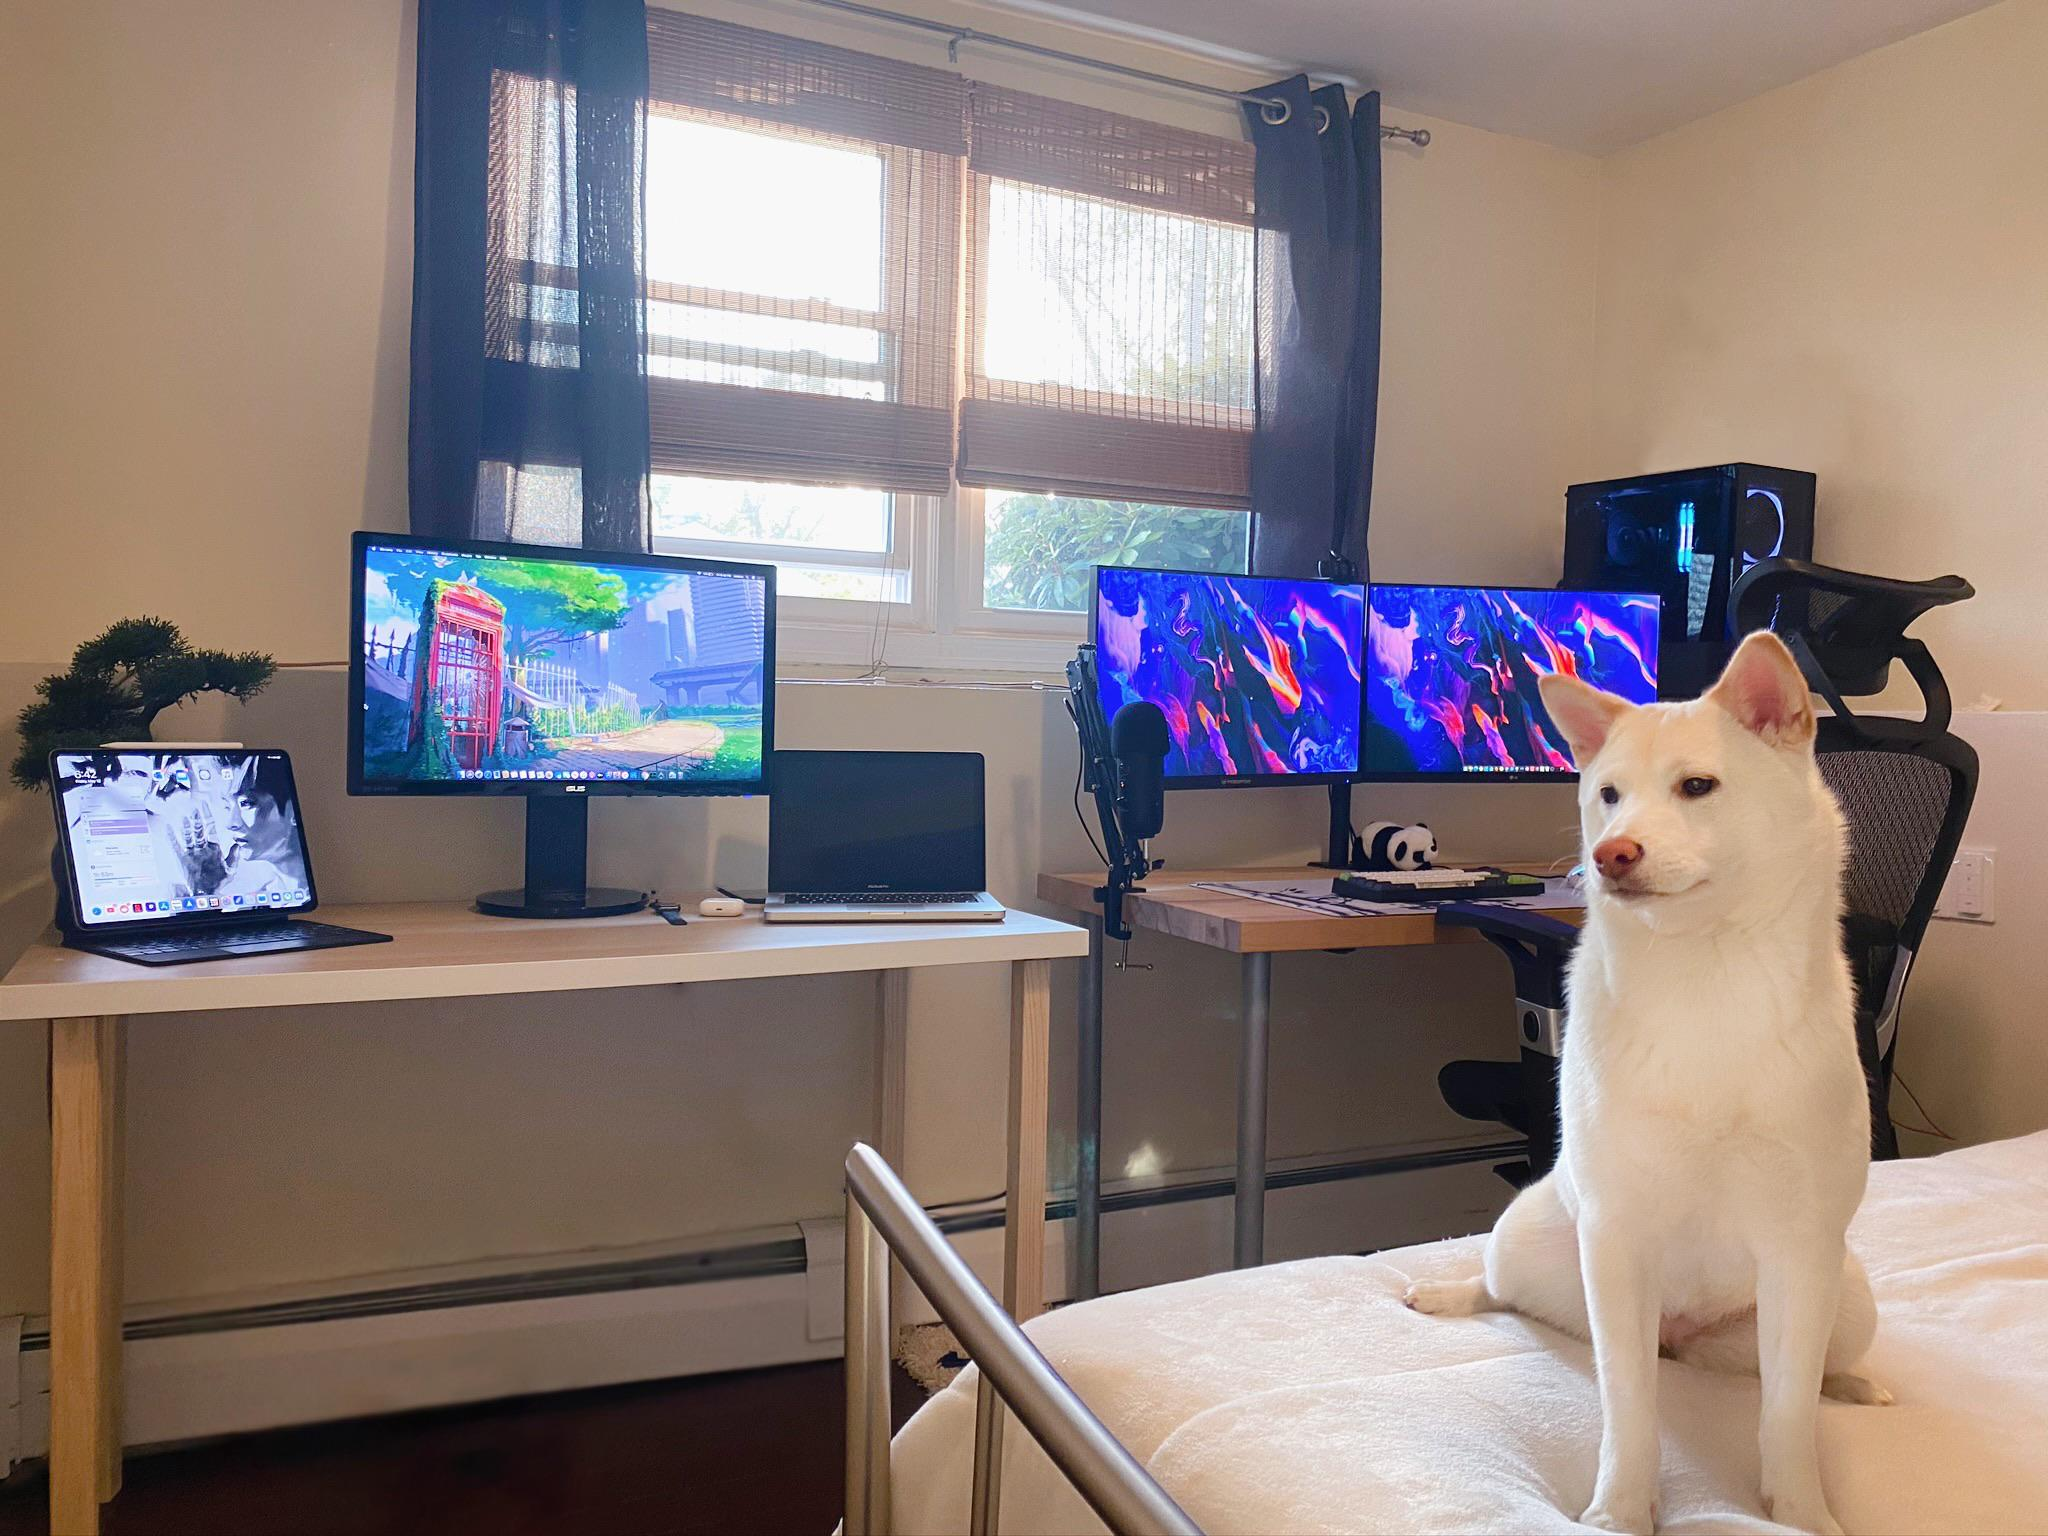Airpods (Apple): (701, 894, 743, 918)
Chair (Generic): (1435, 553, 1980, 1204)
Decoration (Generic): (1342, 820, 1437, 870)
Decoration (Plant): (2, 611, 277, 921)
Decoration (Watch): (643, 891, 689, 926)
Desk (Generic): (3, 892, 1089, 1534), (1039, 854, 1613, 1309)
Desktop (Generic): (1564, 461, 1822, 712)
External Microphone (with Boom Arm): (1051, 641, 1174, 973)
Keyboard (Generic): (1334, 870, 1550, 902)
Laptop (OSX): (764, 745, 1006, 926)
Monitor (Landscape): (343, 526, 779, 921), (1082, 561, 1366, 791), (1359, 581, 1669, 783)
Tablet (iPad): (42, 750, 393, 973)
